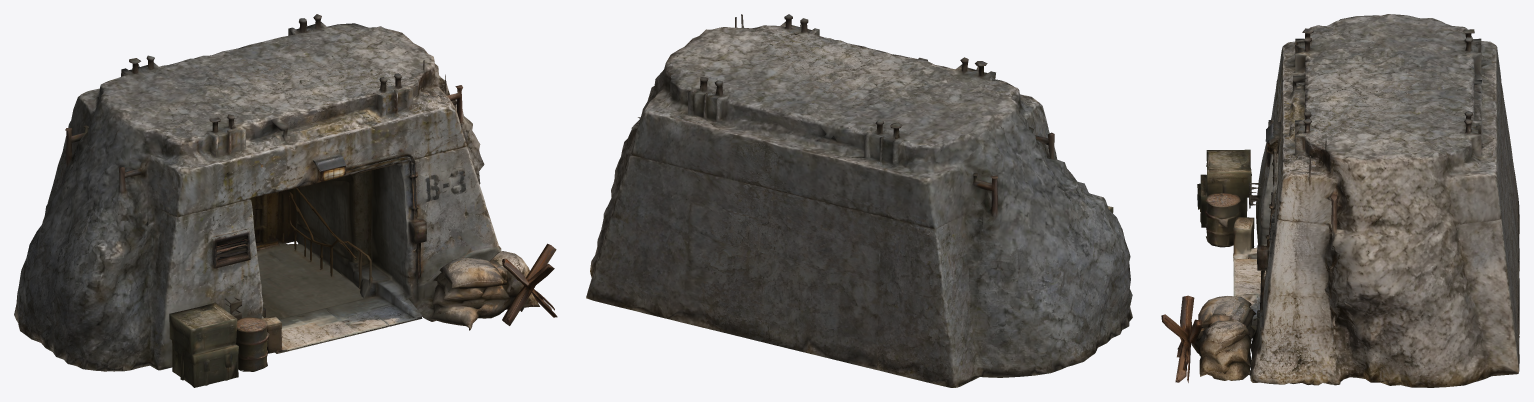
Rendered from bunker entrance 3d model.glb.
The picture shows the model from 3 angles, left to right: view 1: azimuth 30°, elevation 25°; view 2: azimuth 150°, elevation 25°; view 3: azimuth 270°, elevation 25°; orthographic projection. The views are drawn at different scales.
Visible parts, largest first — view 1: tripo_node_8de0d1b8-ffbe-4565-81dc-28dbb2302c1b; view 2: tripo_node_8de0d1b8-ffbe-4565-81dc-28dbb2302c1b; view 3: tripo_node_8de0d1b8-ffbe-4565-81dc-28dbb2302c1b.
Boxes of the visible parts, left/top/right/bottom form: tripo_node_8de0d1b8-ffbe-4565-81dc-28dbb2302c1b: left=14, top=14, right=557, bottom=387; tripo_node_8de0d1b8-ffbe-4565-81dc-28dbb2302c1b: left=586, top=14, right=1132, bottom=387; tripo_node_8de0d1b8-ffbe-4565-81dc-28dbb2302c1b: left=1161, top=14, right=1519, bottom=387.
Size of the model in its own units: 0.9972 by 0.4676 by 0.6963.
1 material, 1 textured.
